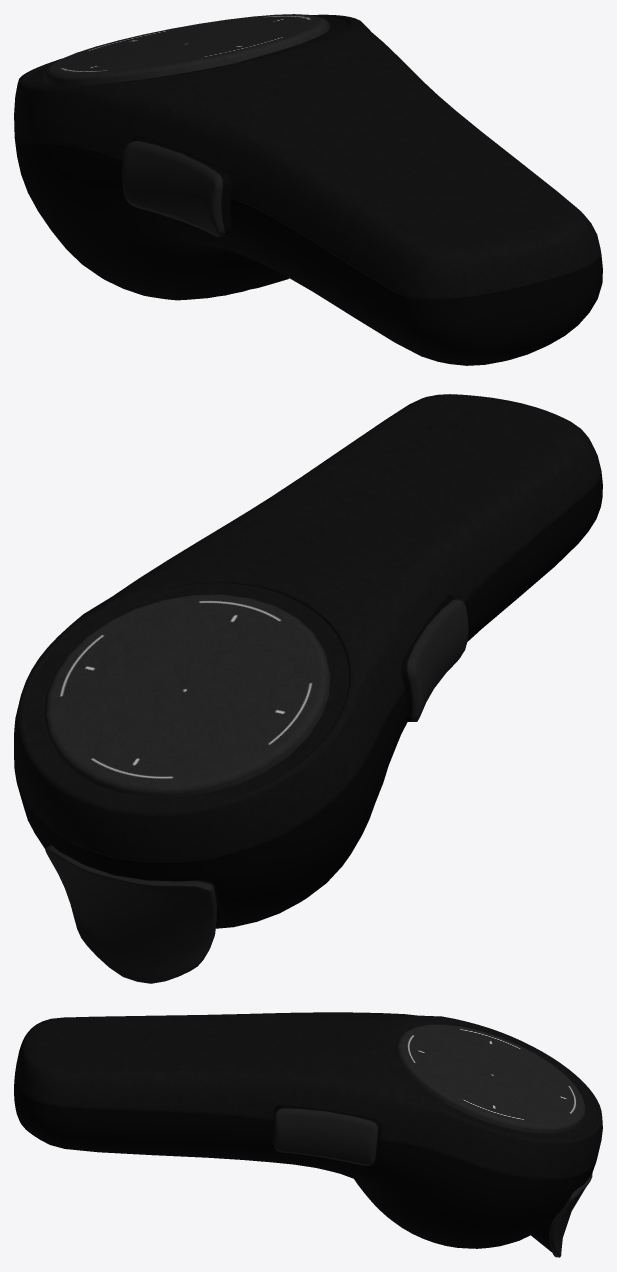
3 views of the same model, one above another, from view 1: azimuth 30°, elevation 25°; view 2: azimuth 150°, elevation 25°; view 3: azimuth 270°, elevation 25° (orthographic). The views are drawn at different scales.
Parts seen in each view (by area): view 1: Body, TouchPad, Grab_L, Plate2; view 2: Body, TouchPad, trigger, Plate2, Grab_L; view 3: Body, TouchPad, Grab_L, Plate2, trigger.
Part boxes in pixels (x1,y1,x2,y2): Body: (14, 14, 602, 365); TouchPad: (43, 14, 329, 86); Grab_L: (122, 138, 232, 236); Plate2: (26, 17, 349, 86); Body: (14, 394, 602, 928); TouchPad: (43, 594, 330, 797); trigger: (45, 845, 219, 983); Plate2: (25, 583, 349, 809); Grab_L: (401, 597, 468, 721); Body: (14, 1012, 602, 1248); TouchPad: (395, 1024, 586, 1133); Grab_L: (274, 1105, 381, 1165); Plate2: (382, 1020, 597, 1139); trigger: (531, 1173, 592, 1257).
Bounding box in the file's own units: 0.0572 × 0.0516 × 0.1295.
1 material, 1 textured.
